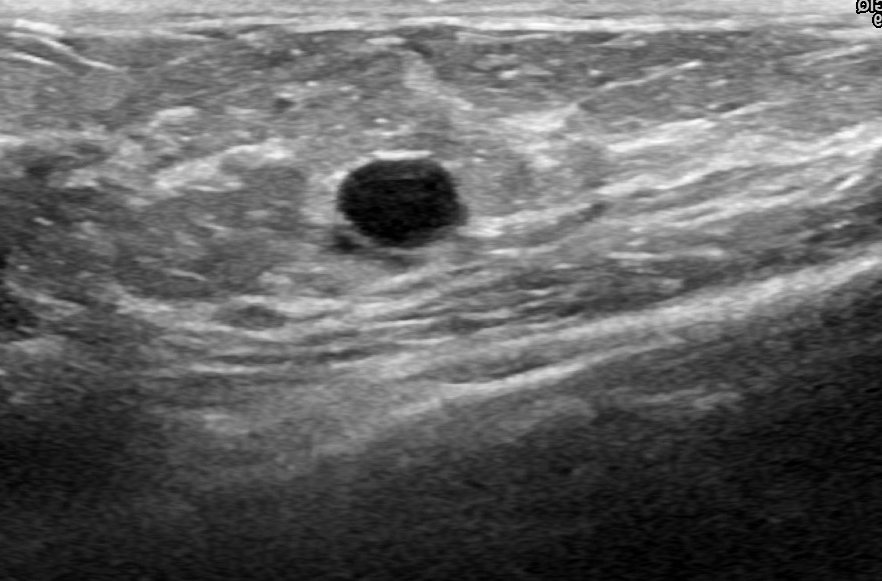Benign: (335, 147, 462, 255)
